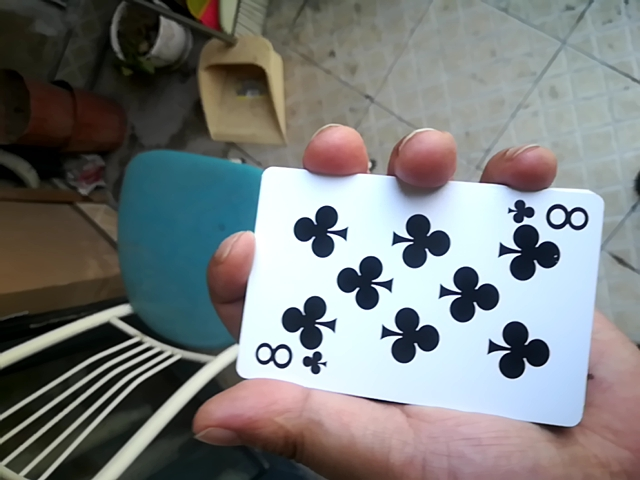mh 8: (236, 162, 612, 428)
